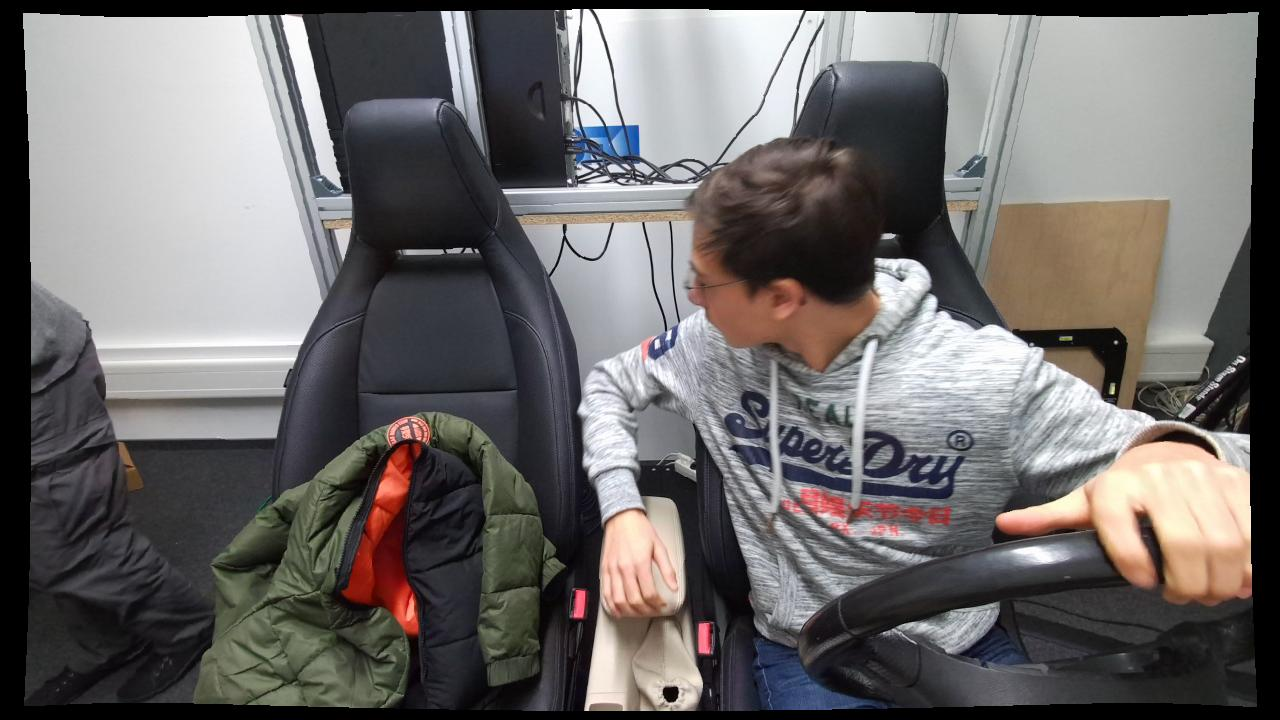Distracted: (608, 123, 1054, 712)
